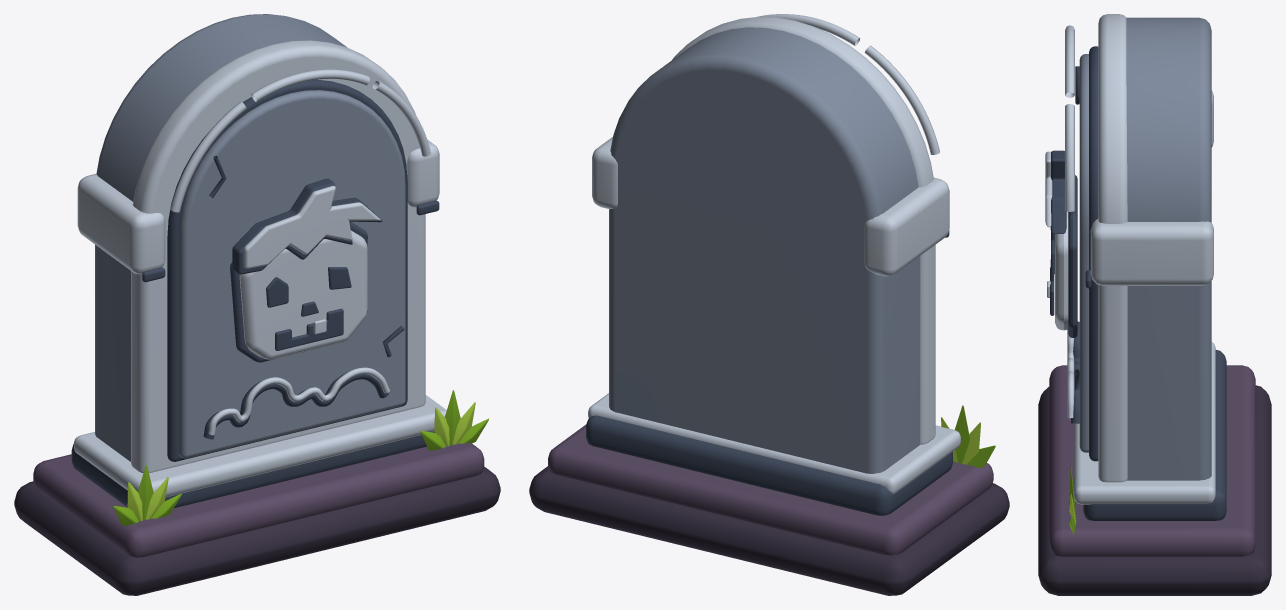
The model's file is Grave_Stone.glb.
3 renders of one model, left to right at view 1: azimuth 30°, elevation 25°; view 2: azimuth 150°, elevation 25°; view 3: azimuth 270°, elevation 25°, orthographic.
Visible parts, largest first — view 1: Headstone / inset front panel.001, Headstone / raised outer border.001, Base / lower basalt.001, Headstone / solid arched body.001, Base / bevelled upper step.001, Foot / highlight lip.001, Emblem / raised zombie face.001, Headstone / recessed outline.001, Shoulder / sculpted side block.002, Emblem / hair highlight.001, Foot / broad material shoe.001, Emblem / messy hair silhouette.001 (+8 smaller); view 2: Headstone / solid arched body.001, Base / lower basalt.001, Base / bevelled upper step.001, Foot / broad material shoe.001, Headstone / raised outer border.001, Shoulder / sculpted side block.002, Foot / highlight lip.001, Shoulder / sculpted side block.003, Crown / curved raised band.005, Crown / curved raised band.004; view 3: Headstone / solid arched body.001, Base / bevelled upper step.001, Base / lower basalt.001, Headstone / raised outer border.001, Shoulder / sculpted side block.003, Foot / highlight lip.001, Foot / broad material shoe.001, Headstone / inset front panel.001, Headstone / recessed outline.001, Emblem / raised zombie face.001, Emblem / dark carved silhouette.001, Emblem / messy hair silhouette.001 (+5 smaller).
Part boxes in pixels (x1=…): Headstone / inset front panel.001: x1=178, y1=90, x2=405, y2=458; Headstone / raised outer border.001: x1=131, y1=40, x2=425, y2=472; Base / lower basalt.001: x1=14, y1=466, x2=500, y2=595; Headstone / solid arched body.001: x1=95, y1=14, x2=346, y2=461; Base / bevelled upper step.001: x1=33, y1=443, x2=484, y2=557; Foot / highlight lip.001: x1=74, y1=395, x2=446, y2=497; Emblem / raised zombie face.001: x1=239, y1=230, x2=367, y2=359; Headstone / recessed outline.001: x1=167, y1=79, x2=407, y2=461; Shoulder / sculpted side block.002: x1=77, y1=174, x2=165, y2=274; Emblem / hair highlight.001: x1=243, y1=185, x2=380, y2=268; Foot / broad material shoe.001: x1=71, y1=432, x2=434, y2=508; Emblem / messy hair silhouette.001: x1=232, y1=178, x2=382, y2=274; Headstone / solid arched body.001: x1=609, y1=27, x2=920, y2=473; Base / lower basalt.001: x1=529, y1=466, x2=1009, y2=595; Base / bevelled upper step.001: x1=548, y1=424, x2=993, y2=555; Foot / broad material shoe.001: x1=586, y1=415, x2=952, y2=515; Headstone / raised outer border.001: x1=672, y1=16, x2=935, y2=444; Shoulder / sculpted side block.002: x1=864, y1=177, x2=949, y2=276; Foot / highlight lip.001: x1=588, y1=393, x2=960, y2=494; Shoulder / sculpted side block.003: x1=592, y1=137, x2=617, y2=209; Crown / curved raised band.005: x1=864, y1=45, x2=939, y2=154; Crown / curved raised band.004: x1=757, y1=14, x2=860, y2=45; Headstone / solid arched body.001: x1=1126, y1=17, x2=1211, y2=480; Base / bevelled upper step.001: x1=1049, y1=365, x2=1255, y2=556; Base / lower basalt.001: x1=1038, y1=385, x2=1271, y2=595; Headstone / raised outer border.001: x1=1098, y1=14, x2=1127, y2=482; Shoulder / sculpted side block.003: x1=1090, y1=219, x2=1213, y2=285; Foot / highlight lip.001: x1=1074, y1=342, x2=1215, y2=504; Foot / broad material shoe.001: x1=1083, y1=350, x2=1226, y2=520; Headstone / inset front panel.001: x1=1079, y1=54, x2=1088, y2=452; Headstone / recessed outline.001: x1=1089, y1=46, x2=1098, y2=461; Emblem / raised zombie face.001: x1=1055, y1=211, x2=1068, y2=330; Emblem / dark carved silhouette.001: x1=1068, y1=175, x2=1077, y2=337; Emblem / messy hair silhouette.001: x1=1050, y1=150, x2=1066, y2=234.
Size of the model in its own units: 2.6 by 3.14 by 1.38.
